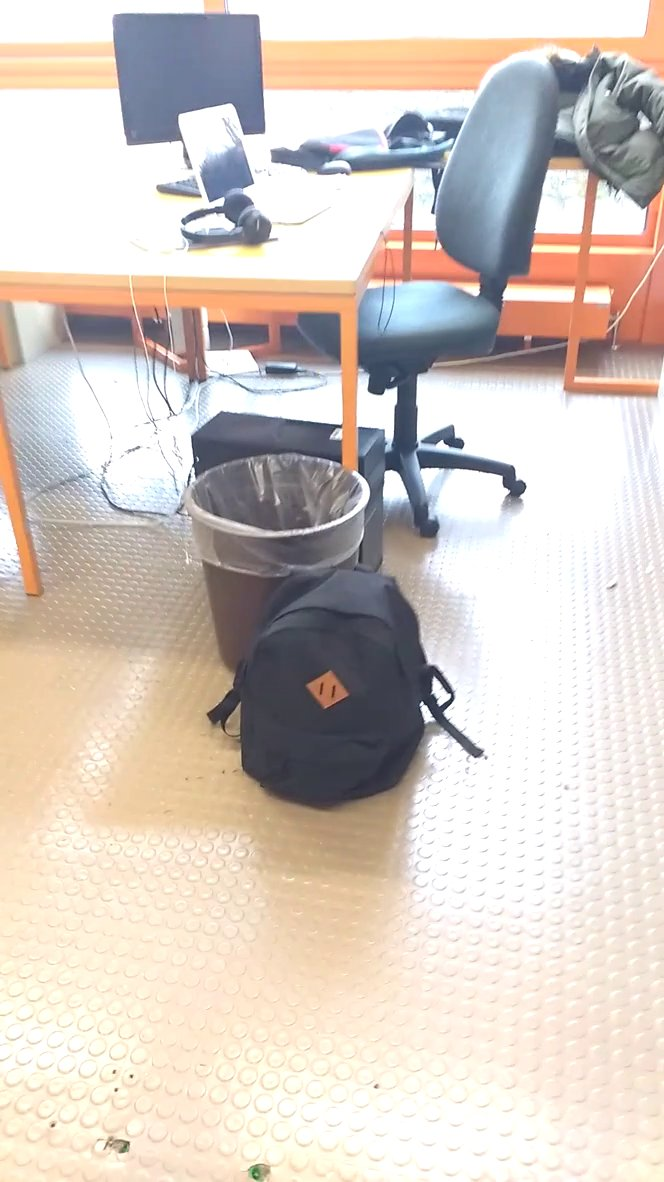bag: (202, 556, 465, 818)
bin: (174, 445, 386, 608)
chair: (305, 35, 554, 526)
laptop: (166, 97, 358, 236)
